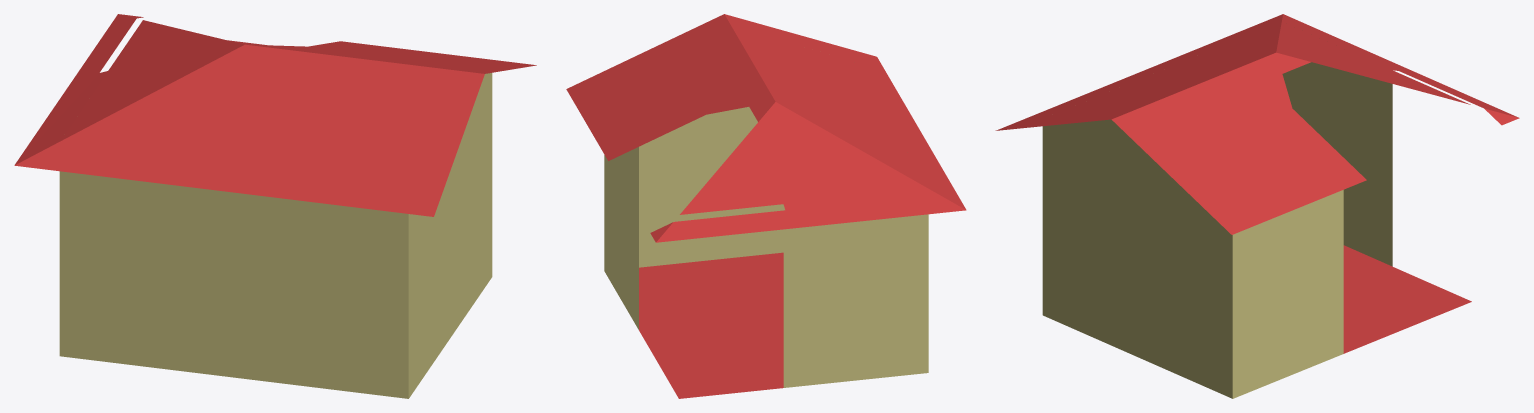
The picture shows the model from 3 angles, left to right: view 1: azimuth 30°, elevation 25°; view 2: azimuth 150°, elevation 25°; view 3: azimuth 270°, elevation 25°; orthographic projection. The views are drawn at different scales.
Bounding box in the file's own units: 15.54 × 15.59 × 8.08.
